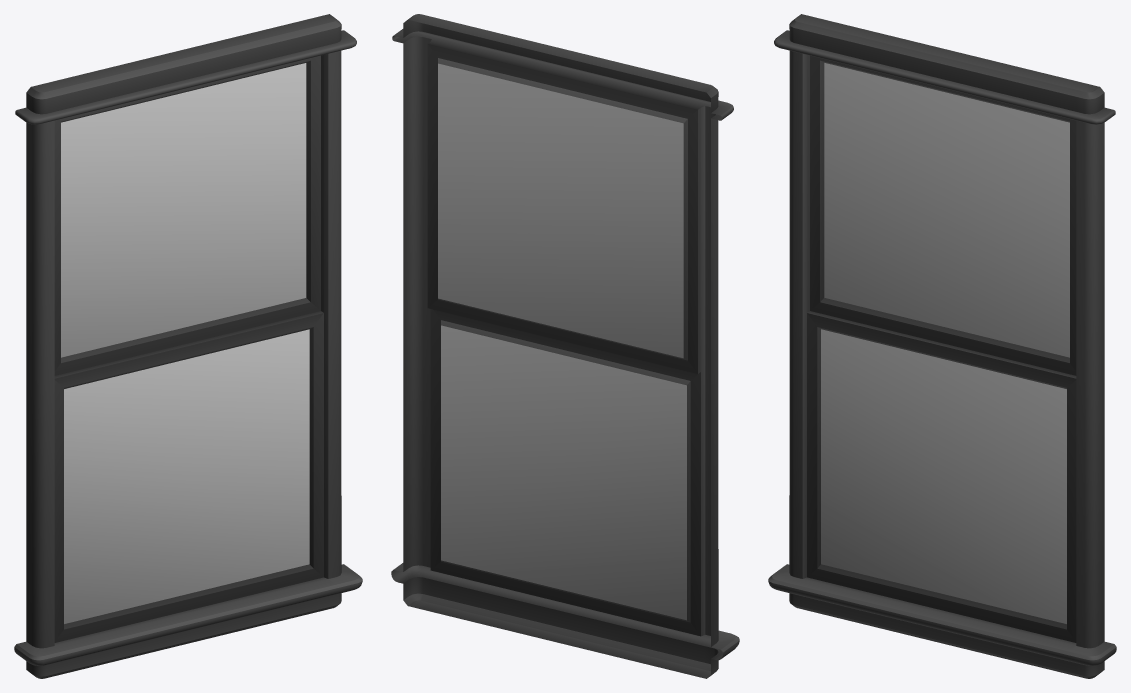
Rendered from window_02.fbx.
The picture shows the model from 3 angles, left to right: view 1: azimuth 30°, elevation 25°; view 2: azimuth 150°, elevation 25°; view 3: azimuth 330°, elevation 25°; orthographic projection.
Visible parts, largest first — view 1: window_02; view 2: window_02; view 3: window_02.
Boxes of the visible parts, x1,y1,x2,y2 form: window_02: (14,14,362,678); window_02: (391,14,739,678); window_02: (768,14,1116,678).
Size of the model in its own units: 0.8606 by 1.45 by 0.0923.
